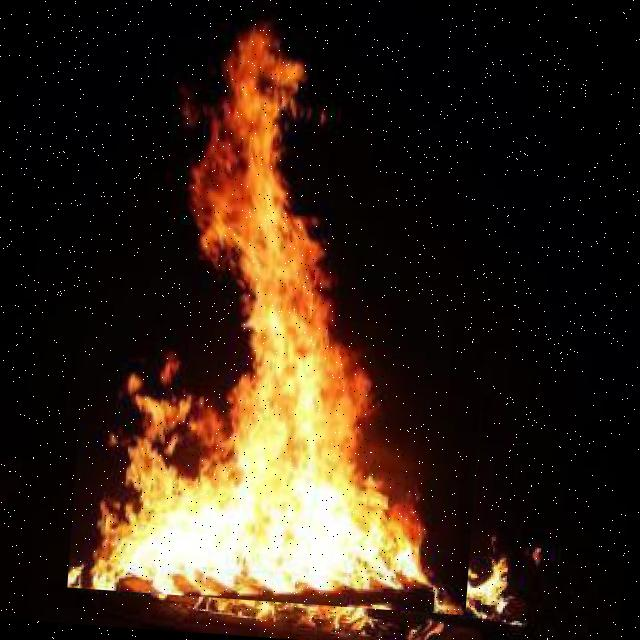fire: (67, 0, 507, 614)
